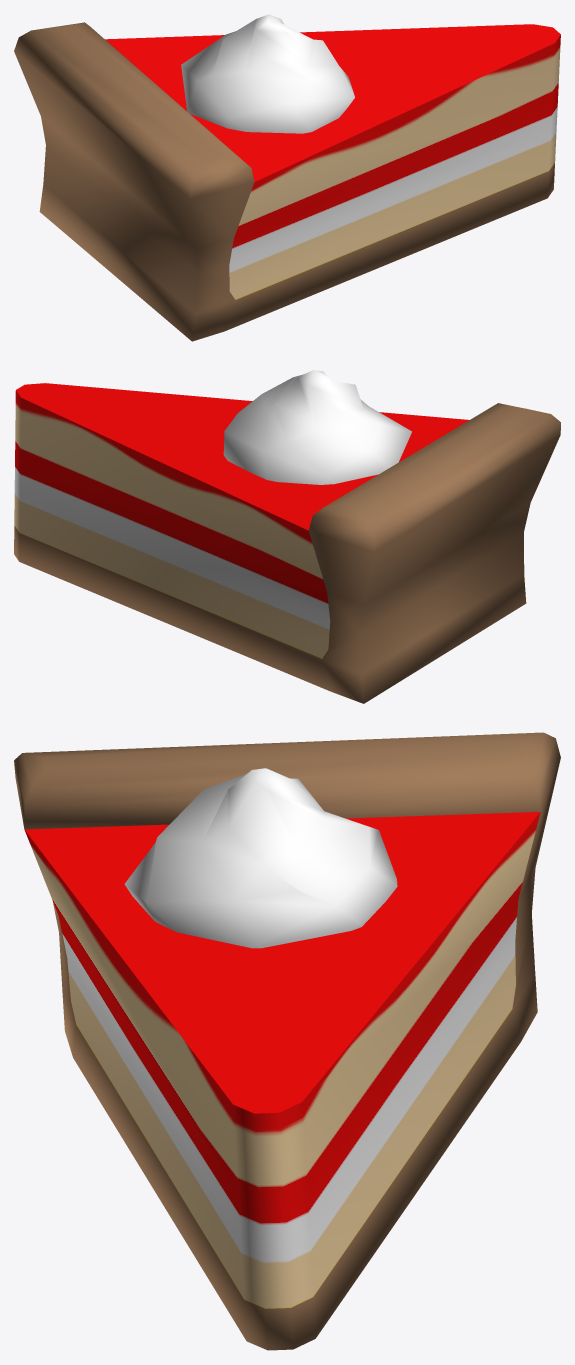
Rendered from red_cakepiece.glb.
The picture shows the model from 3 angles, top to bottom: view 1: azimuth 30°, elevation 25°; view 2: azimuth 150°, elevation 25°; view 3: azimuth 270°, elevation 25°; orthographic projection. The views are drawn at different scales.
Parts seen in each view (by area): view 1: Red_Cakepiece; view 2: Red_Cakepiece; view 3: Red_Cakepiece.
Boxes of the visible parts, x1,y1,x2,y2 form: Red_Cakepiece: (14,14,560,341); Red_Cakepiece: (14,370,560,703); Red_Cakepiece: (14,732,560,1350).
Size of the model in its own units: 0.7358 by 0.3846 by 0.5124.
1 material, 1 textured.
